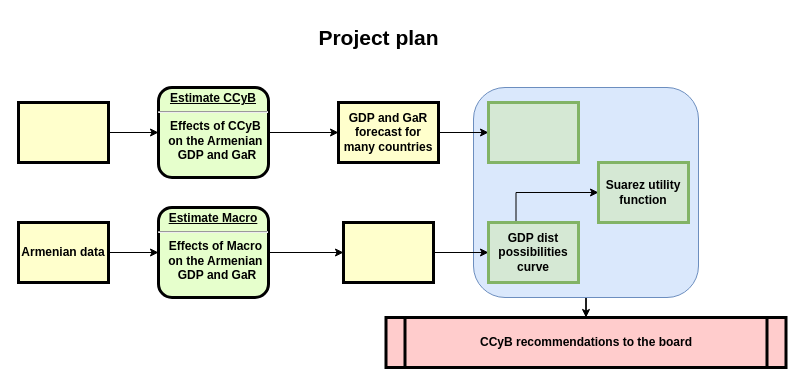
Some shapes in this 805 by 386 pixel diagram are drawn without their labels. The shapes that lost their labels are listed below. From the top down, each one's centre as x and y in pixels, then its label:
(x=63, y=132): Panel data
(x=533, y=132): Fronter
(x=388, y=252): GDP and GaR forecast for Armenia
